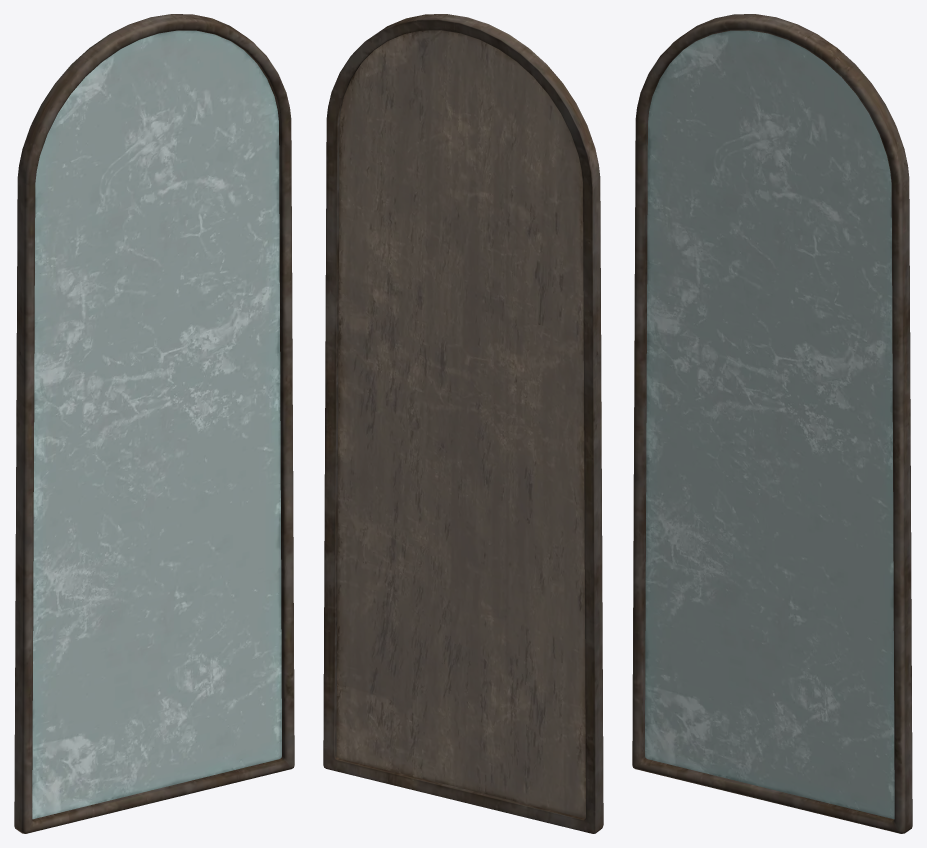
Rendered from mirror_b_dumokan_art.glb.
3 renders of one model, left to right at view 1: azimuth 30°, elevation 25°; view 2: azimuth 150°, elevation 25°; view 3: azimuth 330°, elevation 25°, orthographic.
Visible parts, largest first — view 1: mirrorBMirror_mirrorB_Mat_0; view 2: mirrorBMirror_mirrorB_Mat_0; view 3: mirrorBMirror_mirrorB_Mat_0.
Part boxes in pixels (x1,y1,x2,y2): mirrorBMirror_mirrorB_Mat_0: [14, 14, 294, 833]; mirrorBMirror_mirrorB_Mat_0: [323, 14, 603, 833]; mirrorBMirror_mirrorB_Mat_0: [632, 14, 912, 833].
Bounding box in the file's own units: 0.63 × 1.72 × 0.0378.
Materials: 1 (1 with a texture image).
